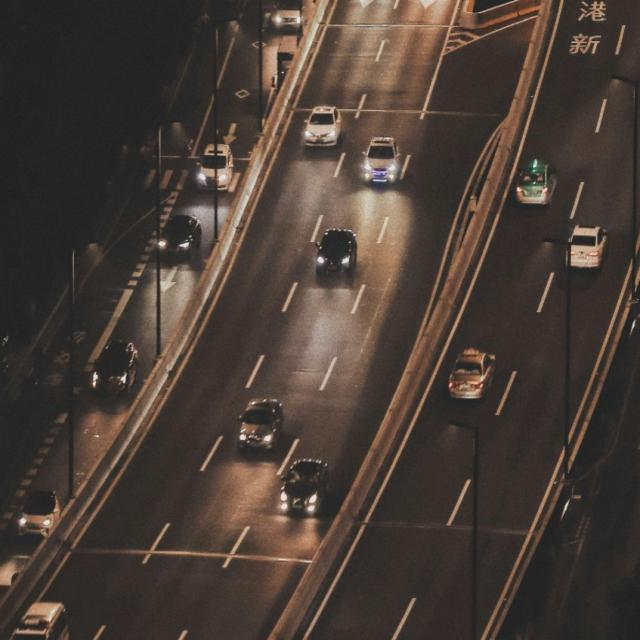car: (280, 459, 330, 518), (91, 340, 138, 395), (238, 398, 283, 455), (449, 349, 497, 400), (12, 600, 69, 640), (315, 228, 357, 280), (17, 491, 60, 539), (515, 159, 558, 206), (159, 214, 202, 261), (568, 224, 609, 270), (196, 144, 234, 190), (363, 136, 400, 183), (304, 106, 342, 148), (273, 0, 301, 31)
